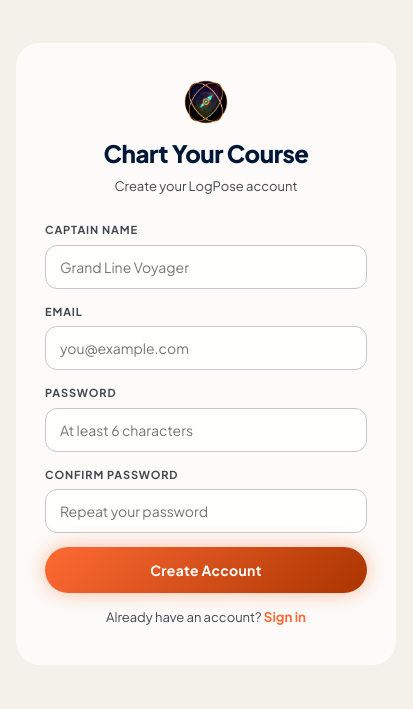
RegisterPage › rejects a password shorter than 6 characters
Type "Captain X" into the field with placeholder "Grand Line Voyager" at {"x": 206, "y": 267}, box [45, 245, 367, 289]
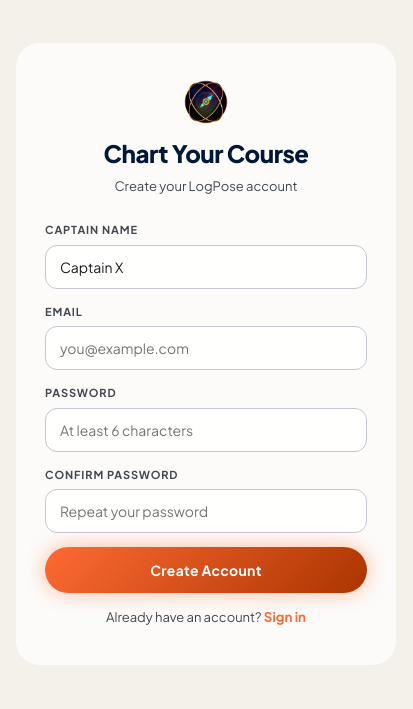
Type "a@b.com" into the field with placeholder "you@example.com" at {"x": 206, "y": 348}, box [45, 326, 367, 370]
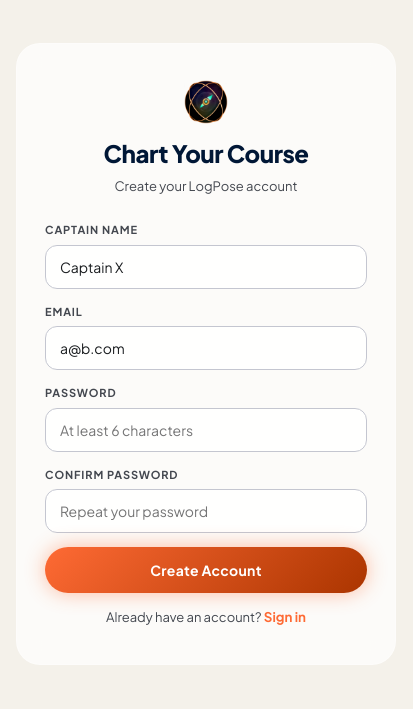
Type "123" into the password field with placeholder "At least 6 characters" at {"x": 206, "y": 430}, box [45, 408, 367, 452]
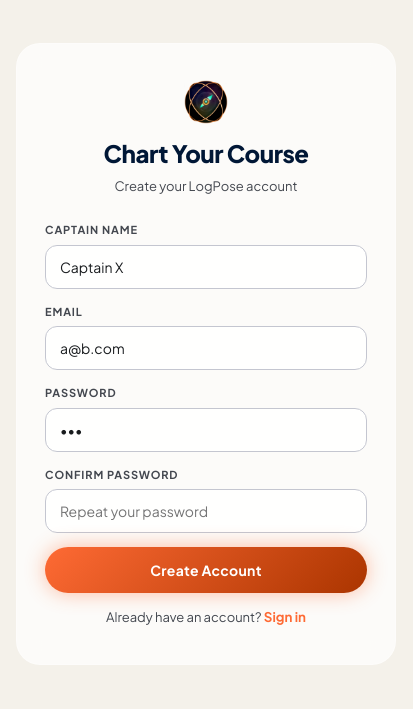
Type "123" into the password field with placeholder "Repeat your password" at {"x": 206, "y": 511}, box [45, 489, 367, 533]
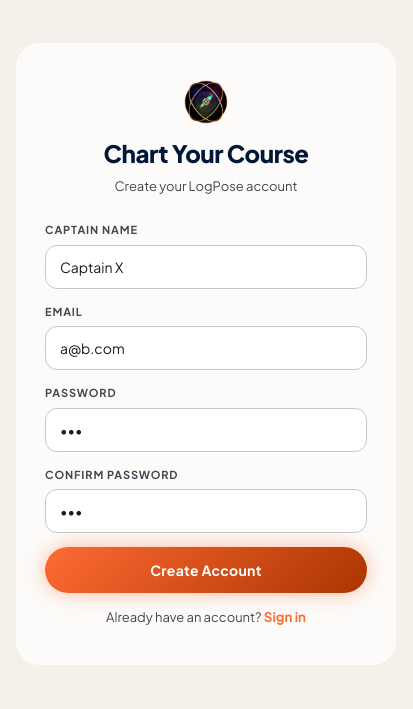
Click the button "Create Account" at {"x": 206, "y": 570}, box [45, 547, 367, 593]
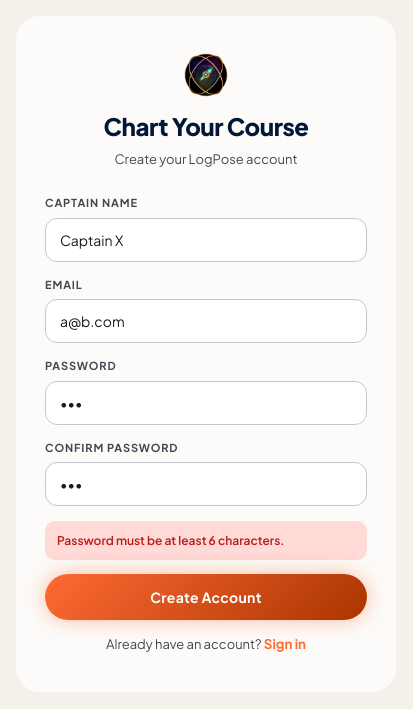
Check: the message shows "at least 6 characters", box [57, 533, 284, 548]
